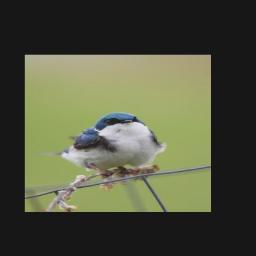Swallow: (32, 112, 168, 179)
